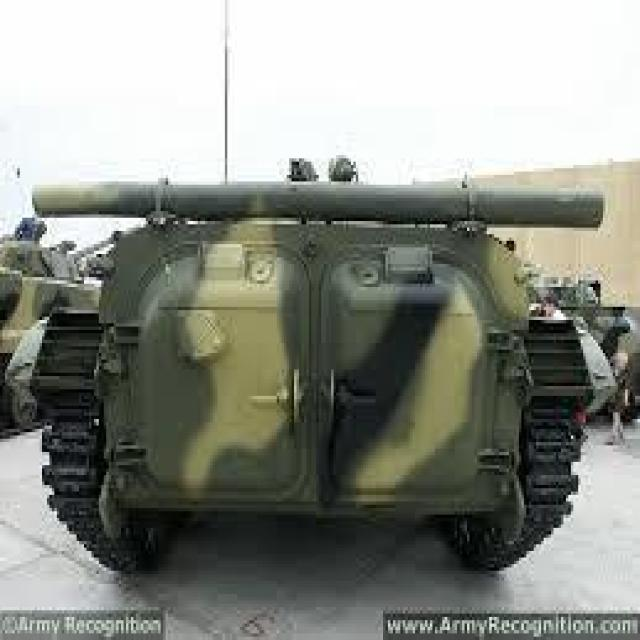Tanks: (32, 147, 610, 589)
